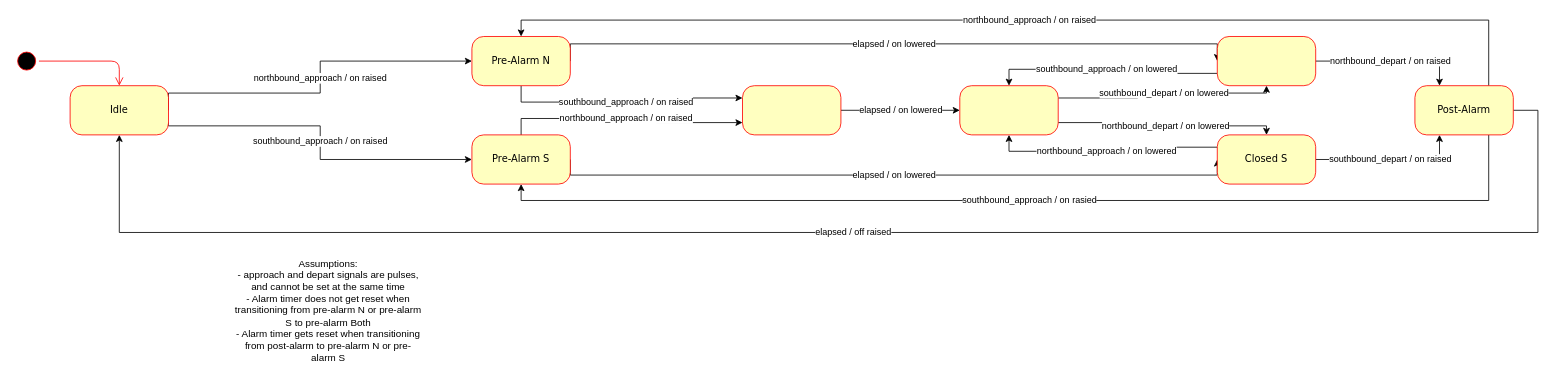
Image size: 1559x378. Some labels were removed from this diagram. The box of each missing label's shape, as (x1, y1, x2, y2) in pixels:
Closed Both: (959, 85, 1058, 135)
Closed N: (1216, 36, 1316, 86)
Pre-Alarm Both: (742, 85, 841, 135)
